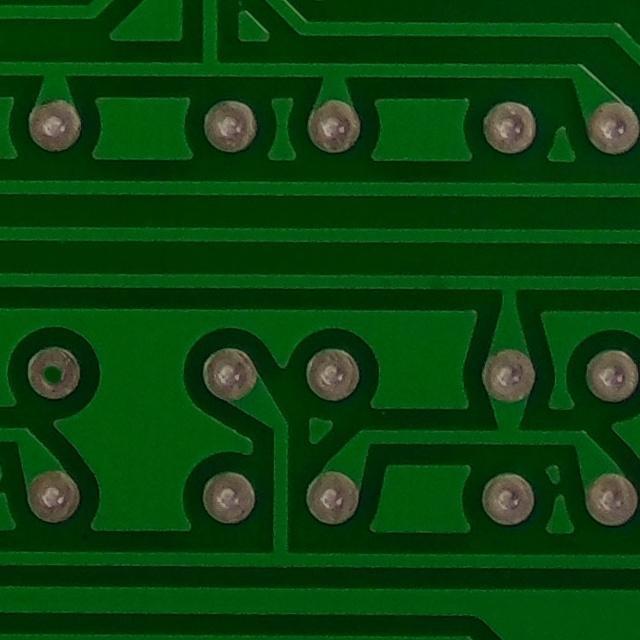missing_hole: (27, 344, 78, 406)
